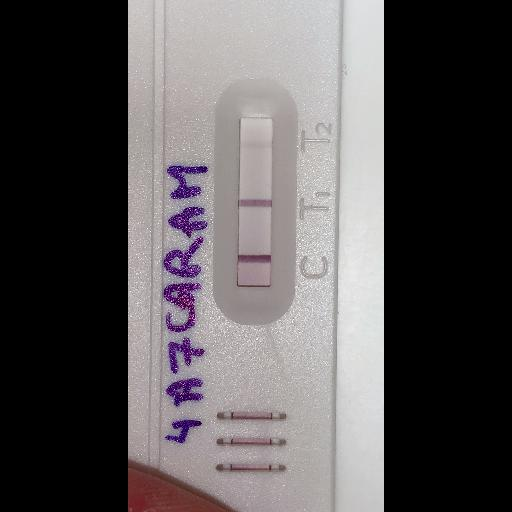Pos: (130, 0, 339, 511)
